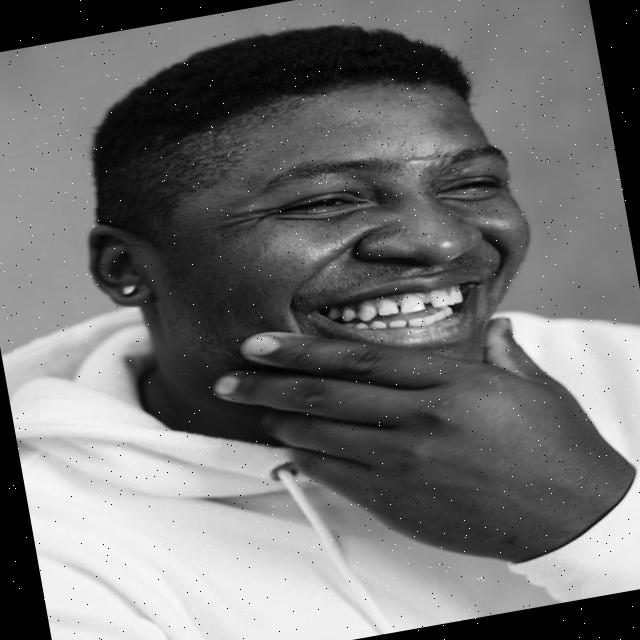Happiness: (165, 64, 557, 419)
